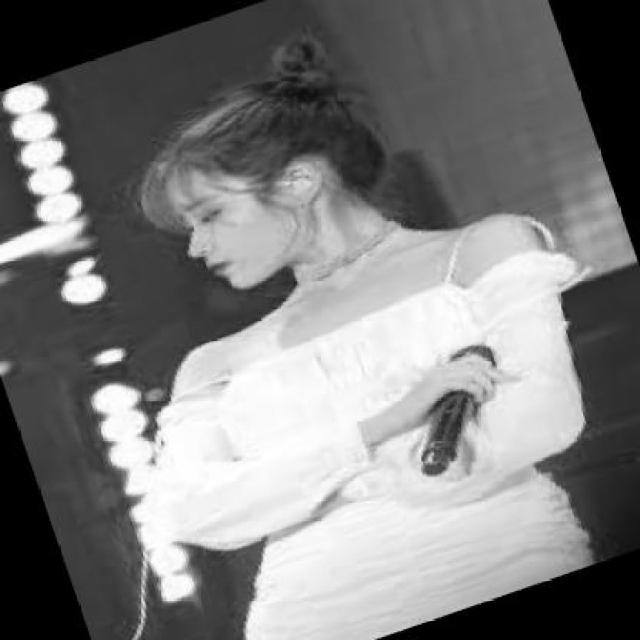earphone: (282, 169, 330, 206)
